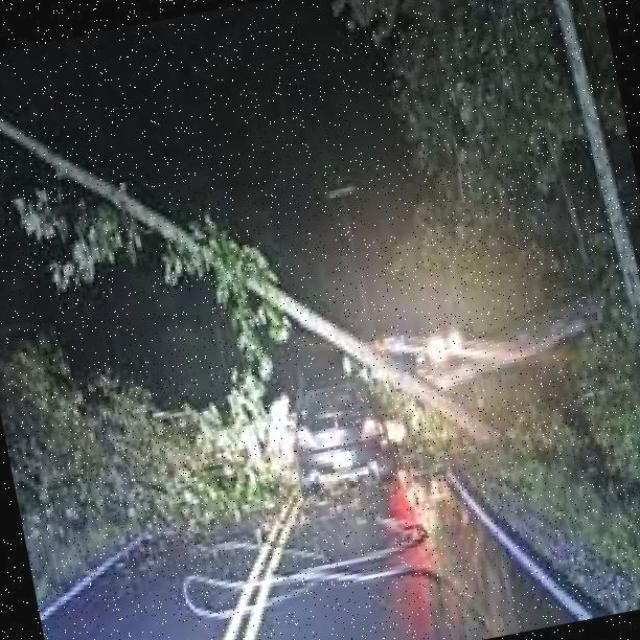fallen_object: (0, 0, 508, 550)
